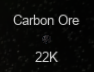Carbon: (13, 13, 80, 63)
